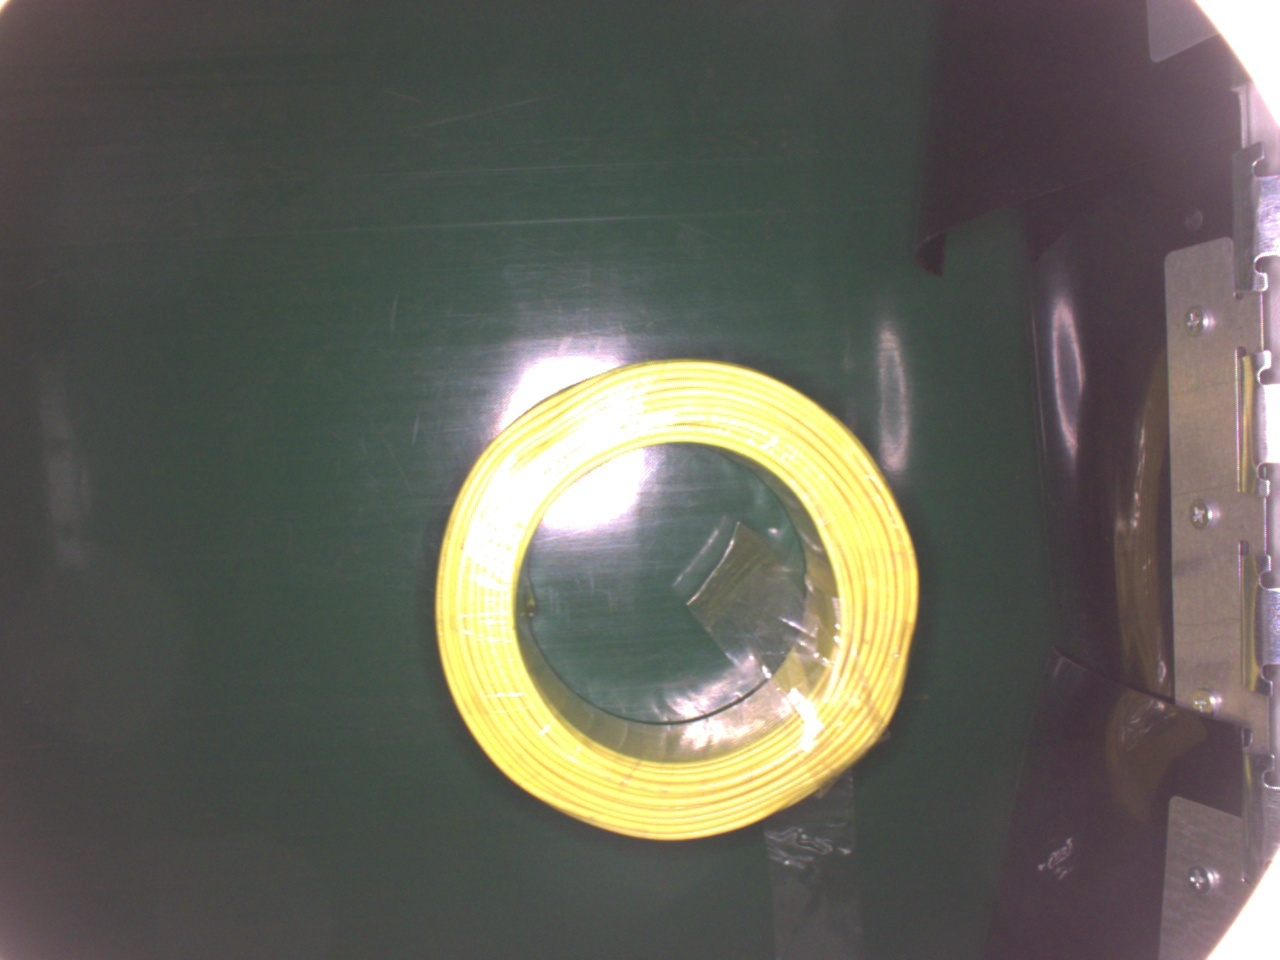yellow: (432, 351, 923, 842)
